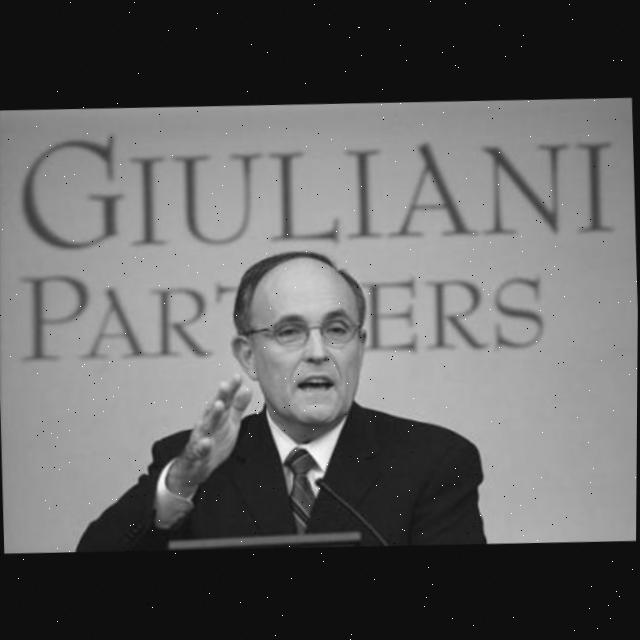face: (235, 264, 370, 428)
